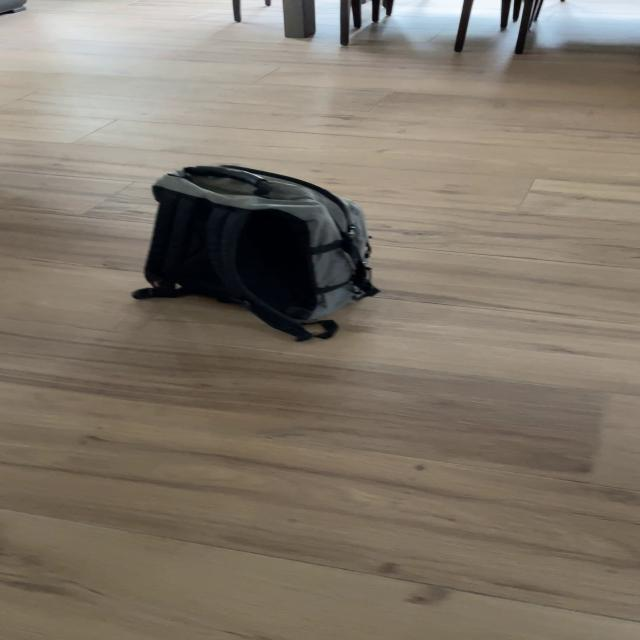backpack: (126, 156, 393, 346)
